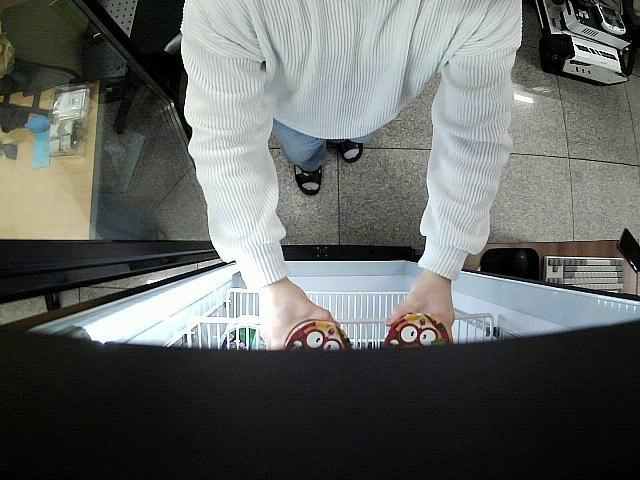06_nuguri_S: (381, 314, 452, 348), (284, 322, 350, 351)
